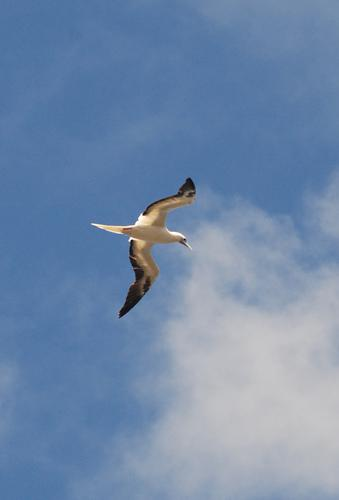002.Laysan_Albatross: (84, 172, 200, 320)
